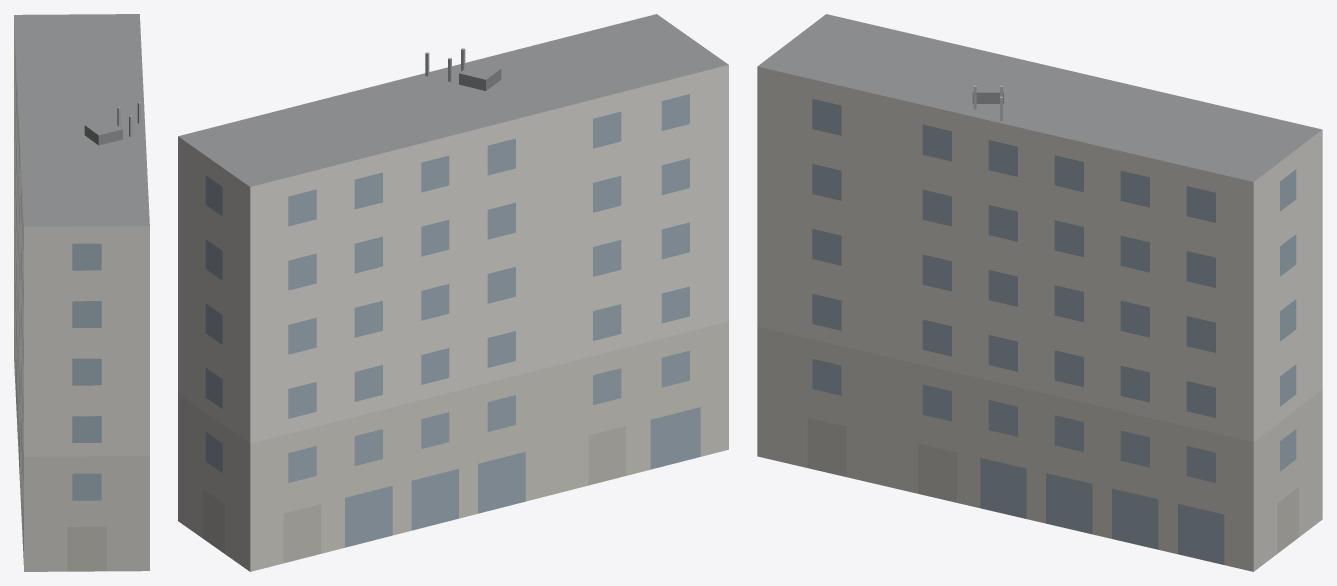
File: doitt-835659__lod_1.glb
3 views of the same model, side by side, from view 1: azimuth 30°, elevation 25°; view 2: azimuth 150°, elevation 25°; view 3: azimuth 270°, elevation 25° (orthographic). The views are drawn at different scales.
Bounding box in the file's own units: 21.38 × 24.49 × 30.4.
